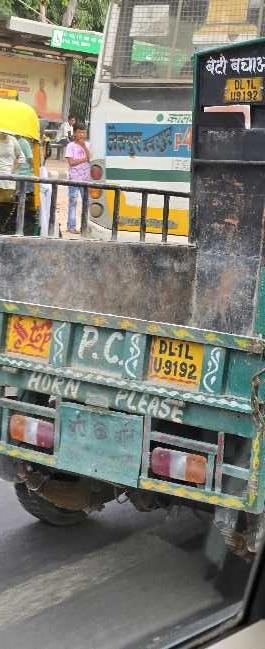License plate: (146, 337, 202, 389)
